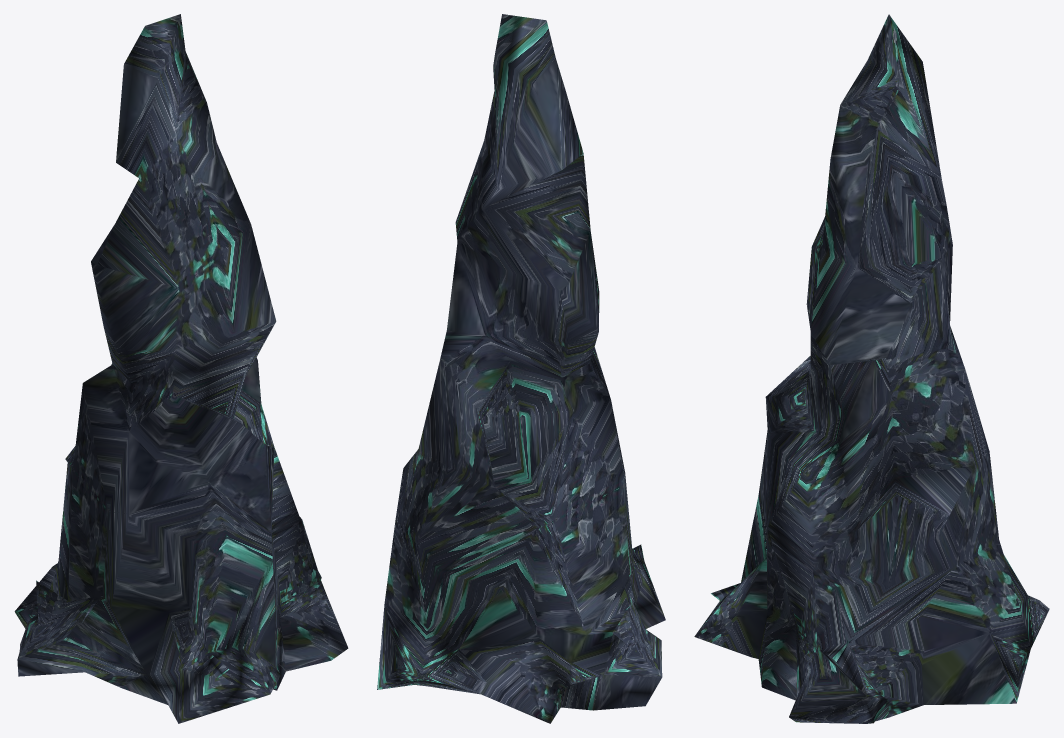
File: spire.glb
3 renders of one model, left to right at view 1: azimuth 30°, elevation 25°; view 2: azimuth 150°, elevation 25°; view 3: azimuth 270°, elevation 25°, orthographic. The views are drawn at different scales.
Size of the model in its own units: 0.833 by 1.77 by 0.8886.
Materials: 1 (1 with a texture image).
